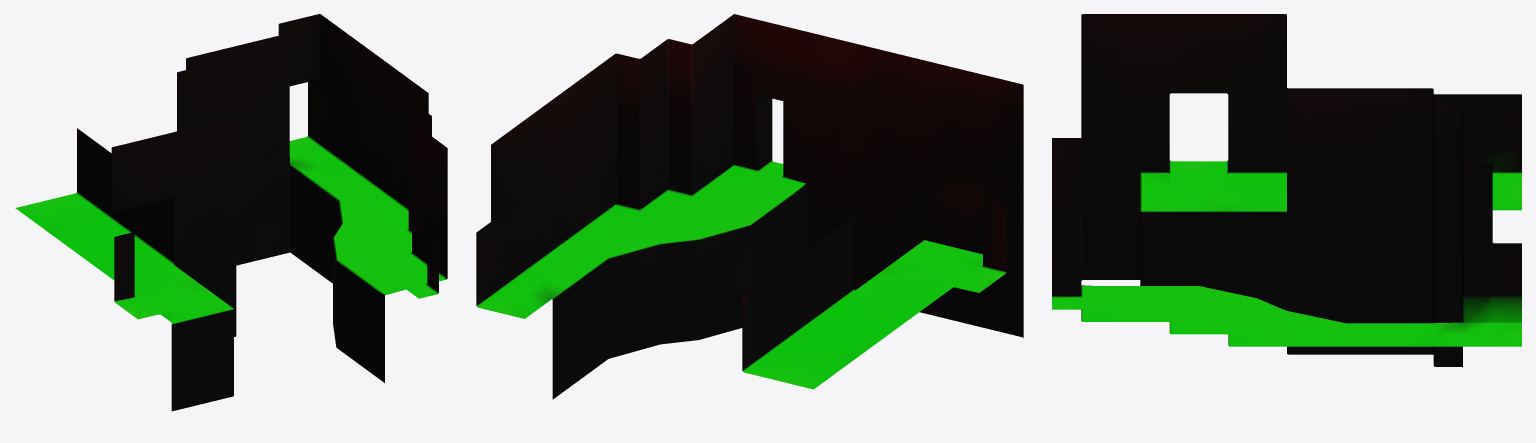
Rendered from castle_cliff_1_no_specular.glb.
3 views of the same model, side by side, from view 1: azimuth 30°, elevation 25°; view 2: azimuth 150°, elevation 25°; view 3: azimuth 270°, elevation 25° (orthographic). The views are drawn at different scales.
Parts seen in each view (by area): view 1: Plane.1581; view 2: Plane.1581; view 3: Plane.1581.
Part boxes in pixels (<box>): Plane.1581: <box>15,14,447,411</box>; Plane.1581: <box>476,14,1023,399</box>; Plane.1581: <box>1052,14,1521,367</box>.
Bounding box in the file's own units: 15 × 10 × 16.
